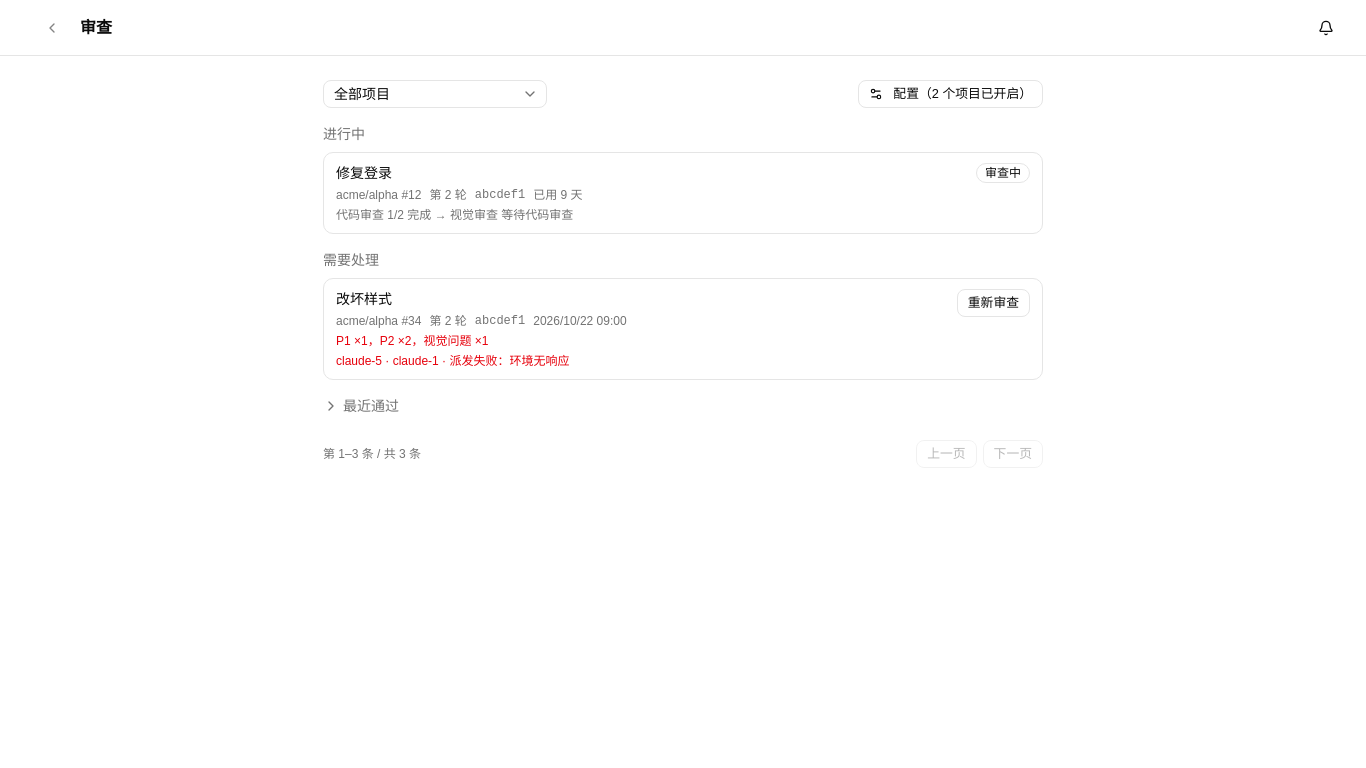
it: ReviewsPage PR 动态 › 渲染三组：进行中进度文案、需要处理发现与原因、最近通过默认折叠
Check: the heading "进行中" is shown, box [323, 126, 365, 142]
Check: the heading "需要处理" is shown, box [323, 252, 379, 268]
Click the button "最近通过".
click(361, 406)  # box [323, 396, 399, 416]
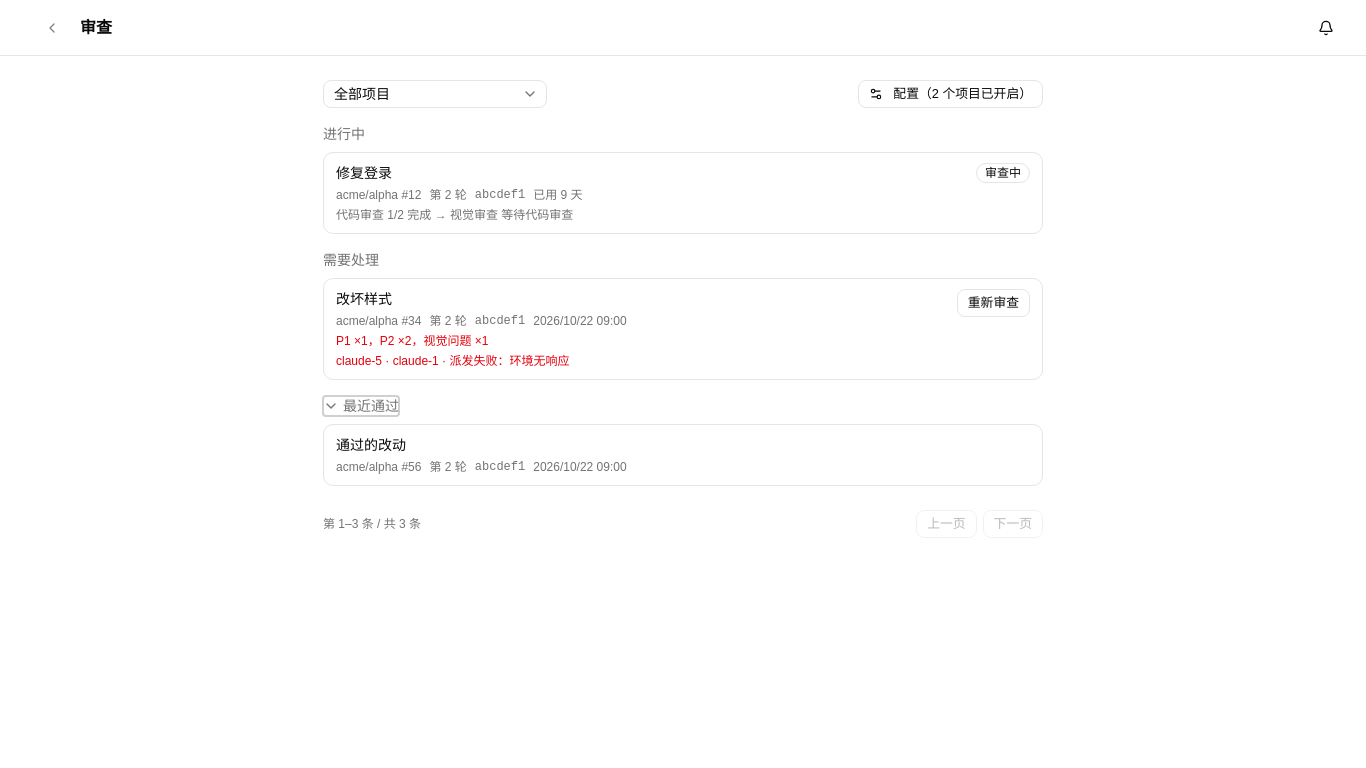
Check: the text "通过的改动" is shown, box [336, 437, 406, 453]
